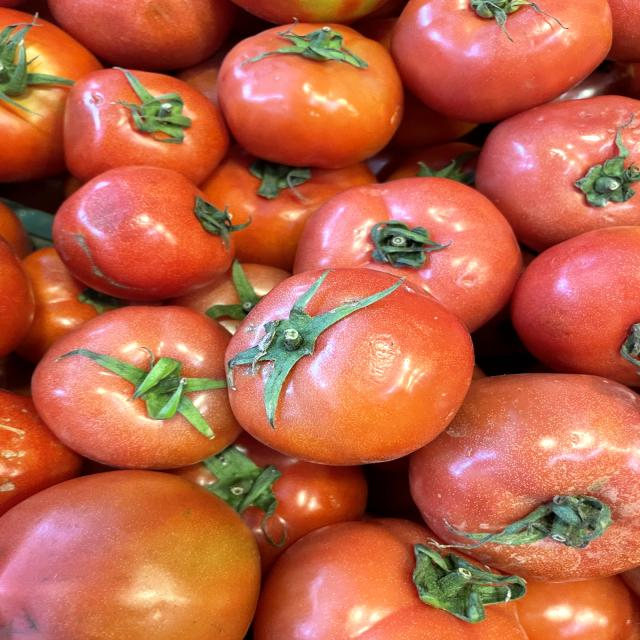tomato: (211, 255, 484, 465), (404, 354, 640, 587), (286, 162, 534, 323), (22, 296, 245, 465), (205, 7, 408, 168), (33, 165, 252, 302), (477, 81, 640, 244), (46, 61, 238, 173)
